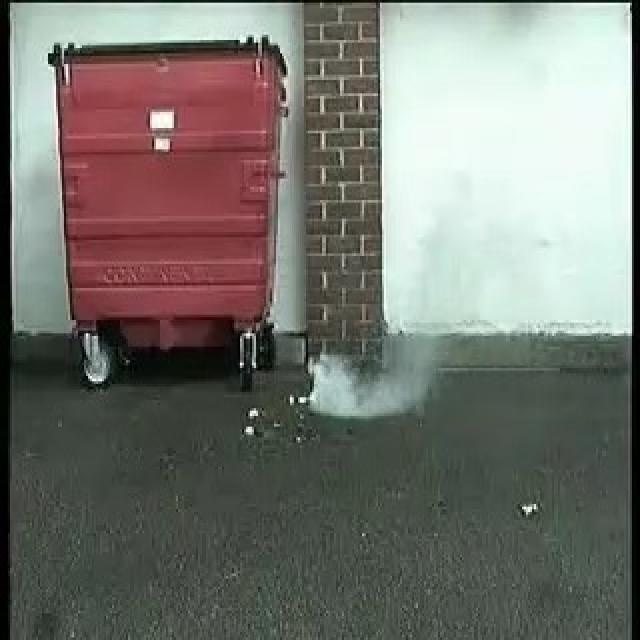smoke: (310, 348, 436, 421)
